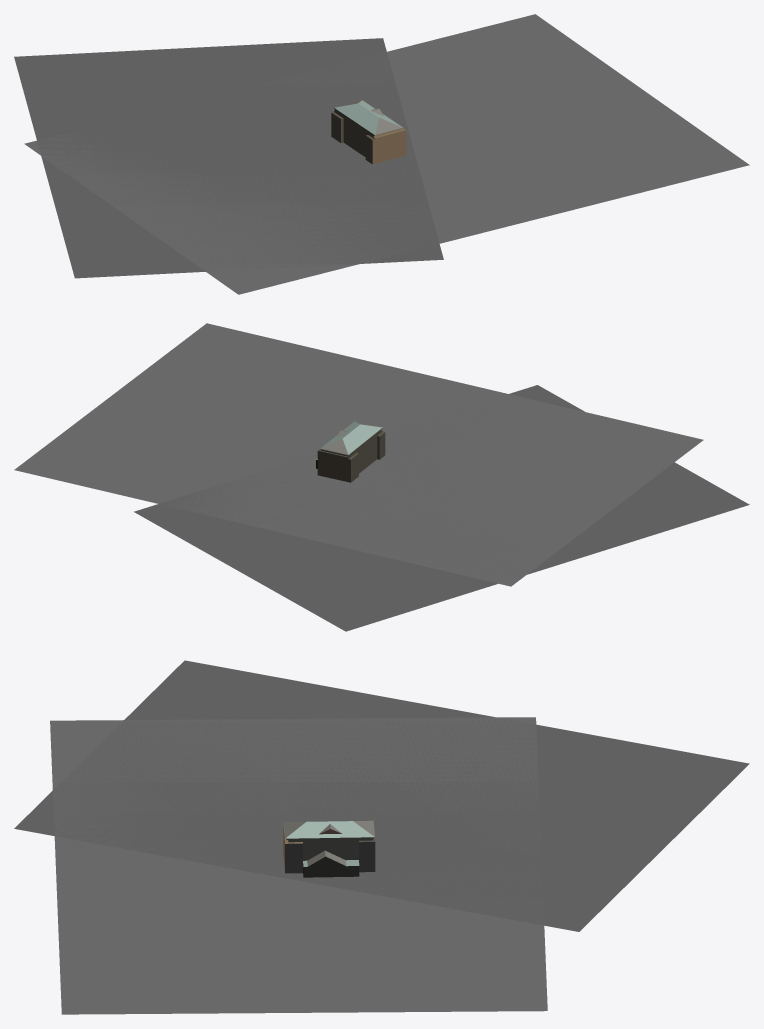
The model's file is hilton-garden-inn-chattanooga-downtown.glb.
3 views of the same model, one above another, from view 1: azimuth 30°, elevation 25°; view 2: azimuth 150°, elevation 25°; view 3: azimuth 270°, elevation 25° (orthographic). The views are drawn at different scales.
Visible parts, largest first — view 1: LOD0; view 2: LOD0; view 3: LOD0.
Boxes of the visible parts, box(x1,y1,x2,y2) form: LOD0: box(14, 14, 749, 294); LOD0: box(14, 323, 749, 631); LOD0: box(14, 660, 749, 1014).
Size of what is drawn, in the model's own units: 415 by 22.63 by 364.
Materials: 2 (2 with a texture image).
